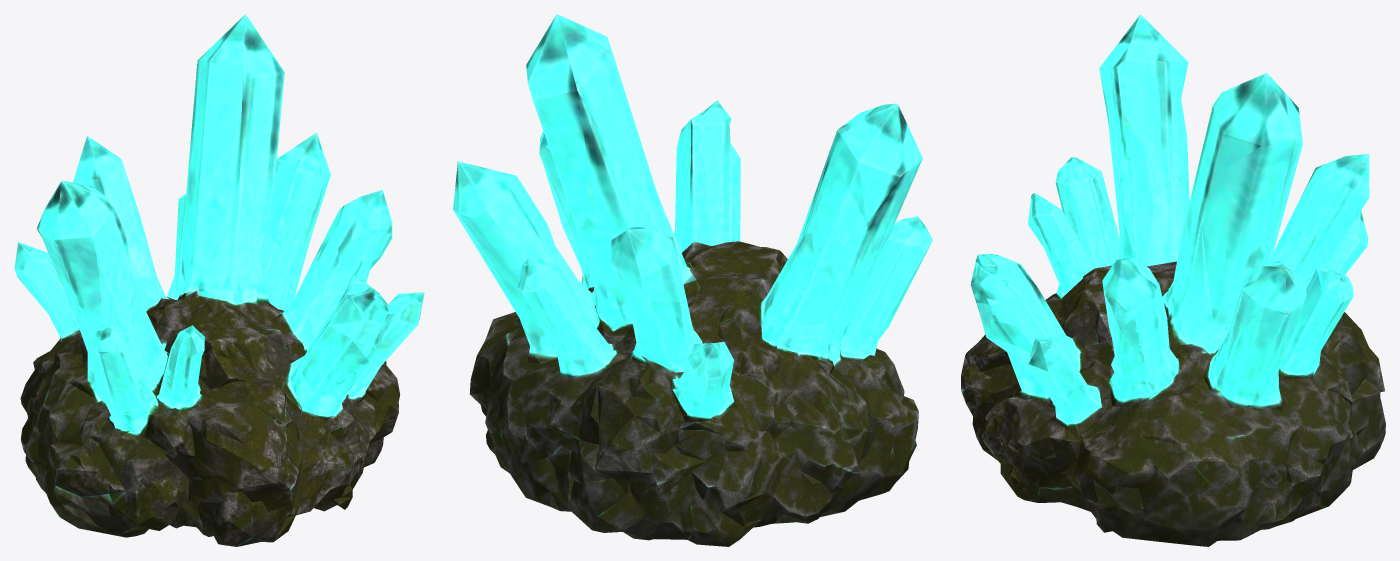
The model's file is sp_m_crystals.glb.
The picture shows the model from 3 angles, left to right: view 1: azimuth 30°, elevation 25°; view 2: azimuth 150°, elevation 25°; view 3: azimuth 270°, elevation 25°; orthographic projection. The views are drawn at different scales.
Visible parts, largest first — view 1: output_unwrapped; view 2: output_unwrapped; view 3: output_unwrapped.
Boxes of the visible parts, x1,y1,x2,y2 form: output_unwrapped: (14, 14, 424, 546); output_unwrapped: (453, 14, 932, 546); output_unwrapped: (961, 14, 1385, 546).
Size of the model in its own units: 1.72 by 1.9 by 1.68.
Materials: 1 (1 with a texture image).
